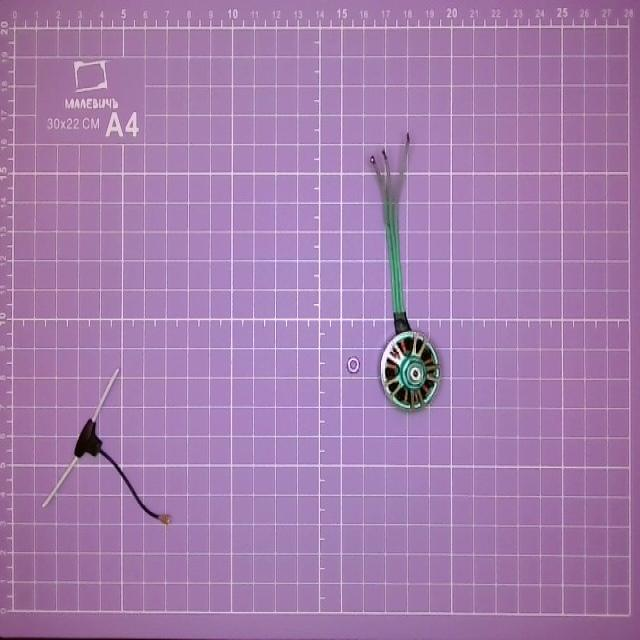antenna: (40, 368, 175, 528)
motor: (367, 135, 440, 412)
screw_M3: (341, 354, 362, 376)
